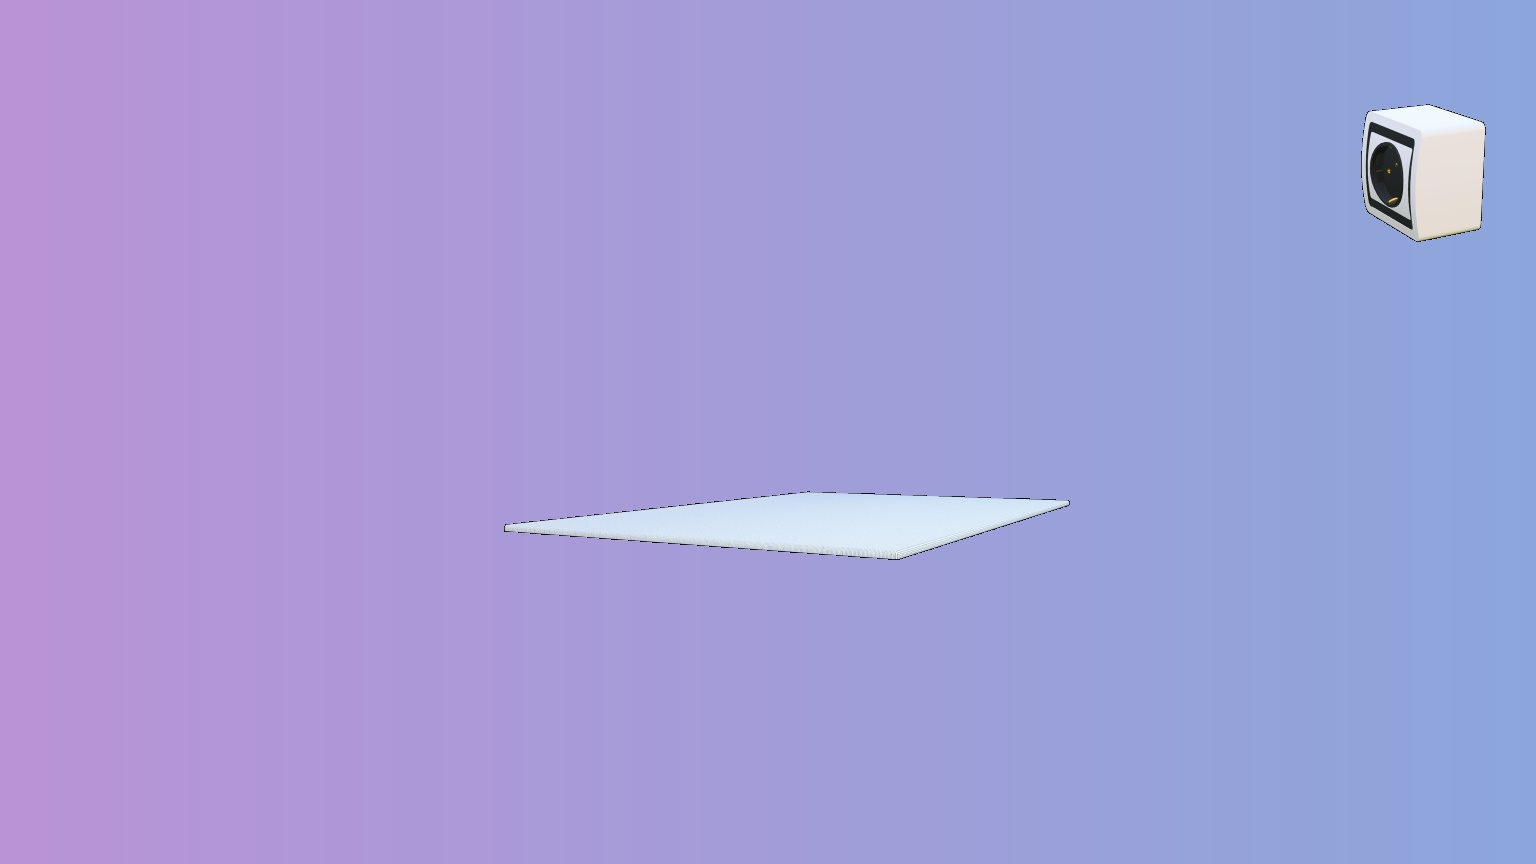alfombra: (504, 491, 1070, 560)
enchufe: (1361, 104, 1486, 242)
